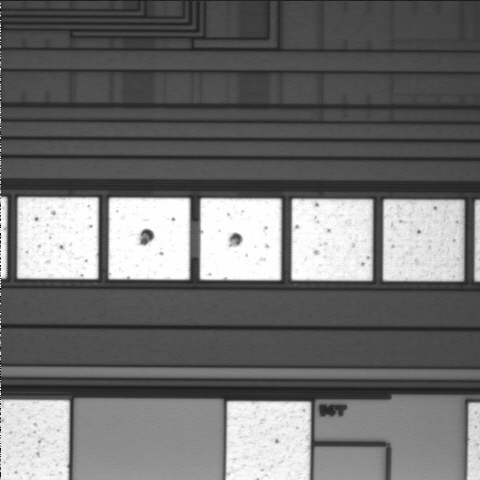pad: (291, 199, 373, 281), (17, 197, 98, 279), (109, 198, 190, 280), (200, 198, 281, 280), (383, 200, 464, 281)
